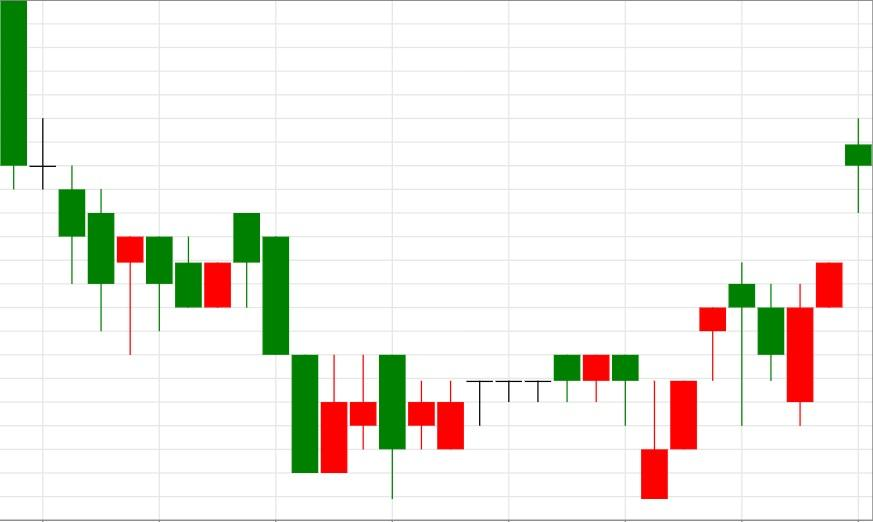three_white_soldiers_rise: (553, 307, 727, 500)
